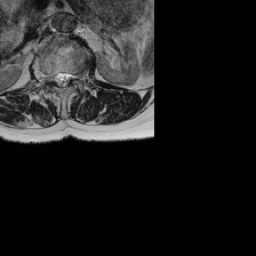CCS_normal: (59, 65, 65, 93)
LFS_stenosis: (71, 66, 78, 85)
LLS_normal: (65, 65, 71, 89)
RFS_normal: (48, 66, 53, 86)
RLS_normal: (53, 65, 59, 90)
